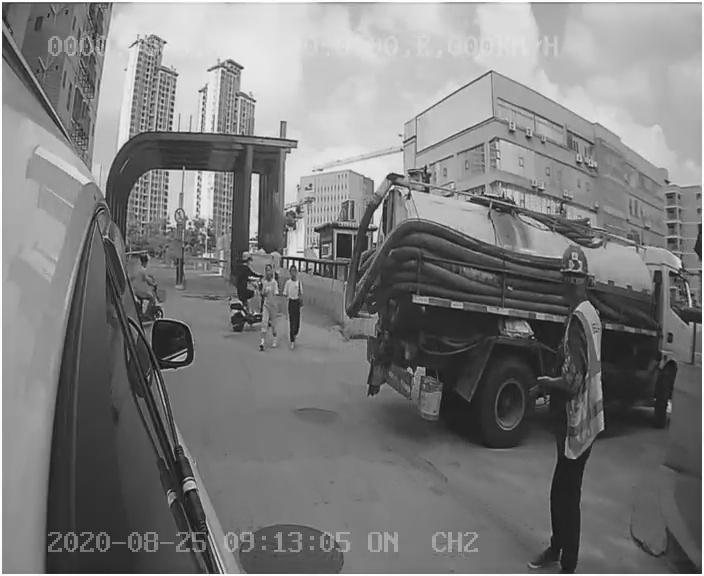person: (532, 251, 605, 574)
